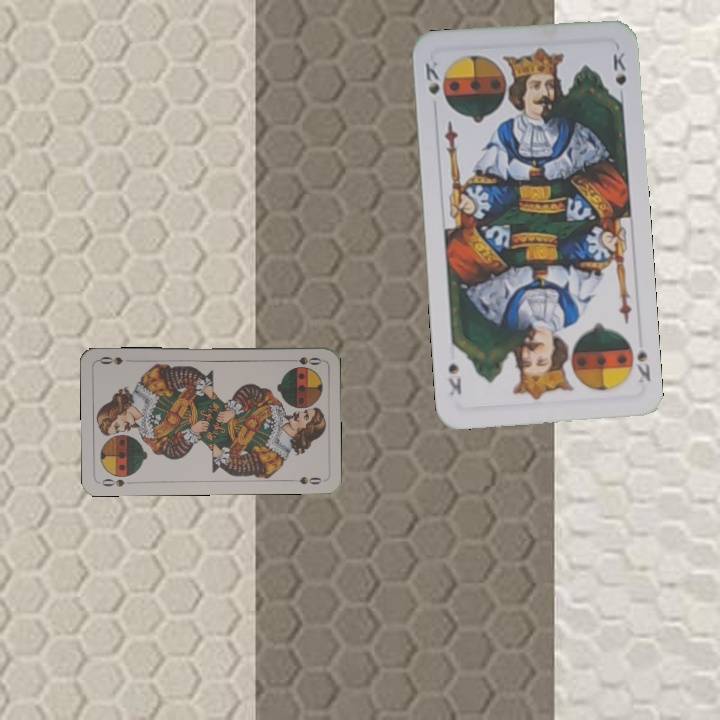SK: (632, 346, 654, 386), (421, 57, 442, 97)
SO: (283, 353, 324, 368), (97, 475, 137, 489)
